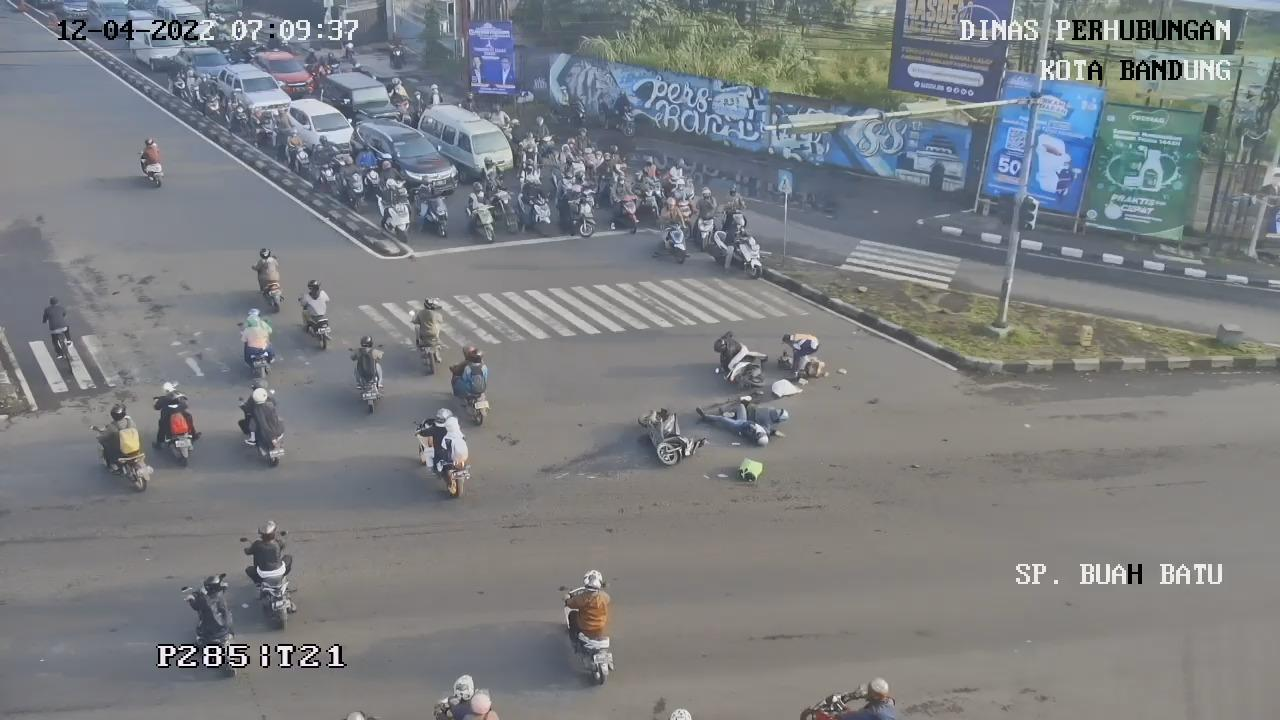accident: (696, 403, 769, 448), (738, 402, 790, 426)
